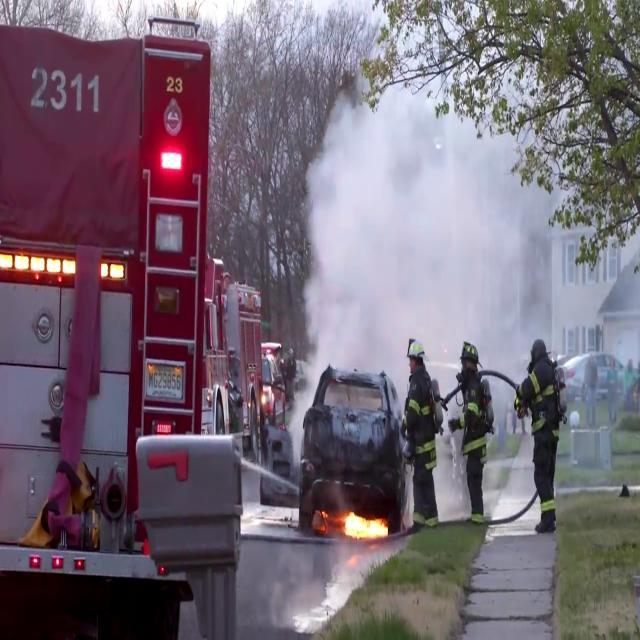Fire: (340, 502, 386, 547)
Smoke: (289, 64, 609, 388)
